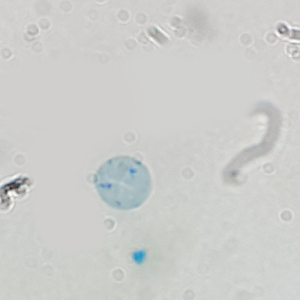aggregate reticulocyte: (91, 154, 155, 212)
